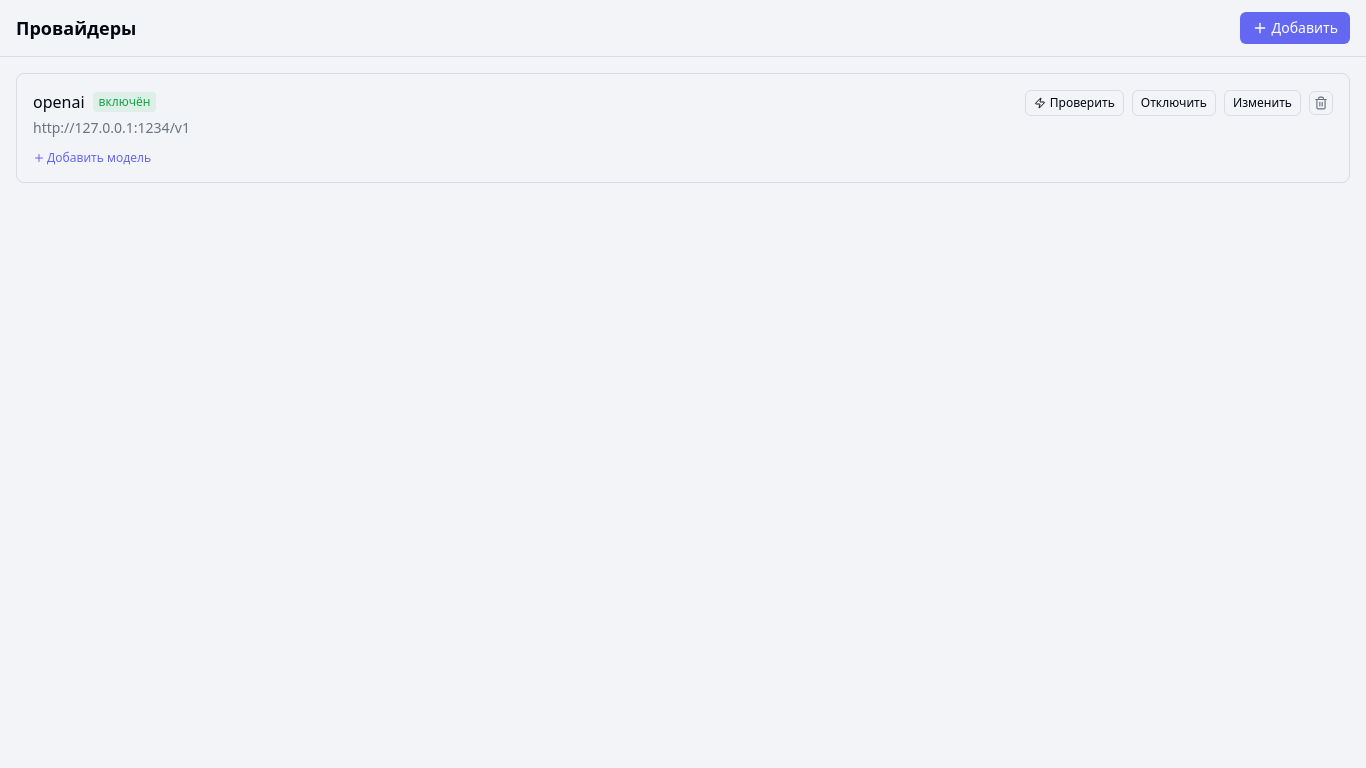
Test: ProvidersPage › edit form has write-only api_key rotation field, empty by default
Click the button "Изменить": (1262, 103) top-left (1224, 90), bottom-right (1301, 116)
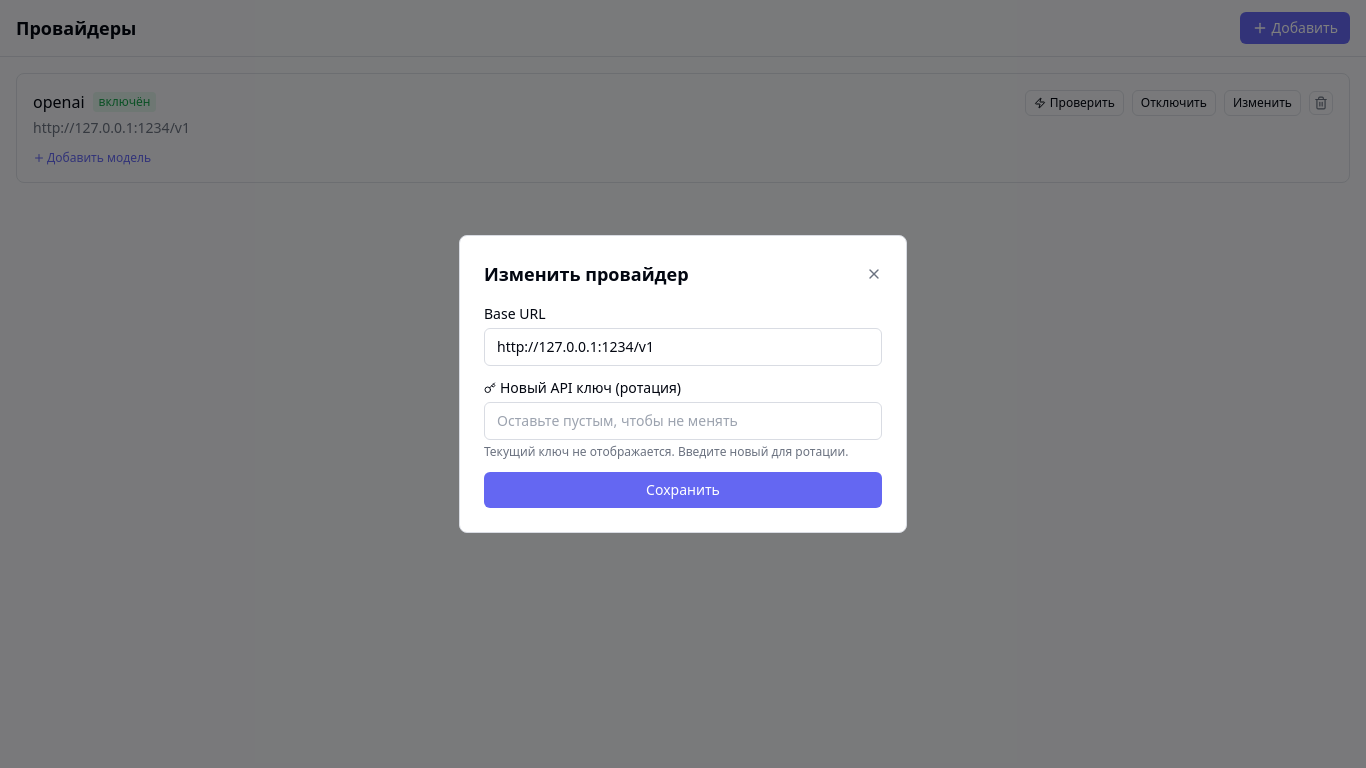
Expected: the heading "Изменить провайдер" is shown, top-left (484, 260), bottom-right (689, 288)
Expected: the password field with placeholder "Оставьте пустым, чтобы не менять" is empty, top-left (484, 402), bottom-right (882, 440)
Expected: the text "Текущий ключ не отображается. Введите новый для ротации." is shown, top-left (484, 444), bottom-right (882, 460)
